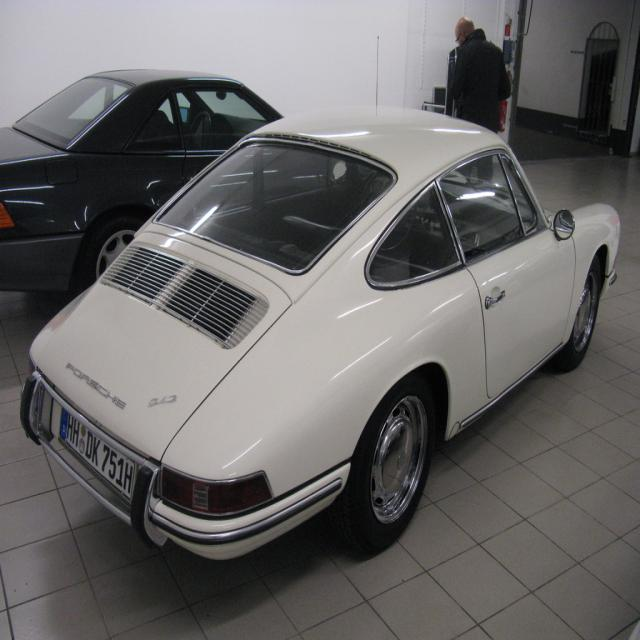car: (17, 93, 620, 566)
